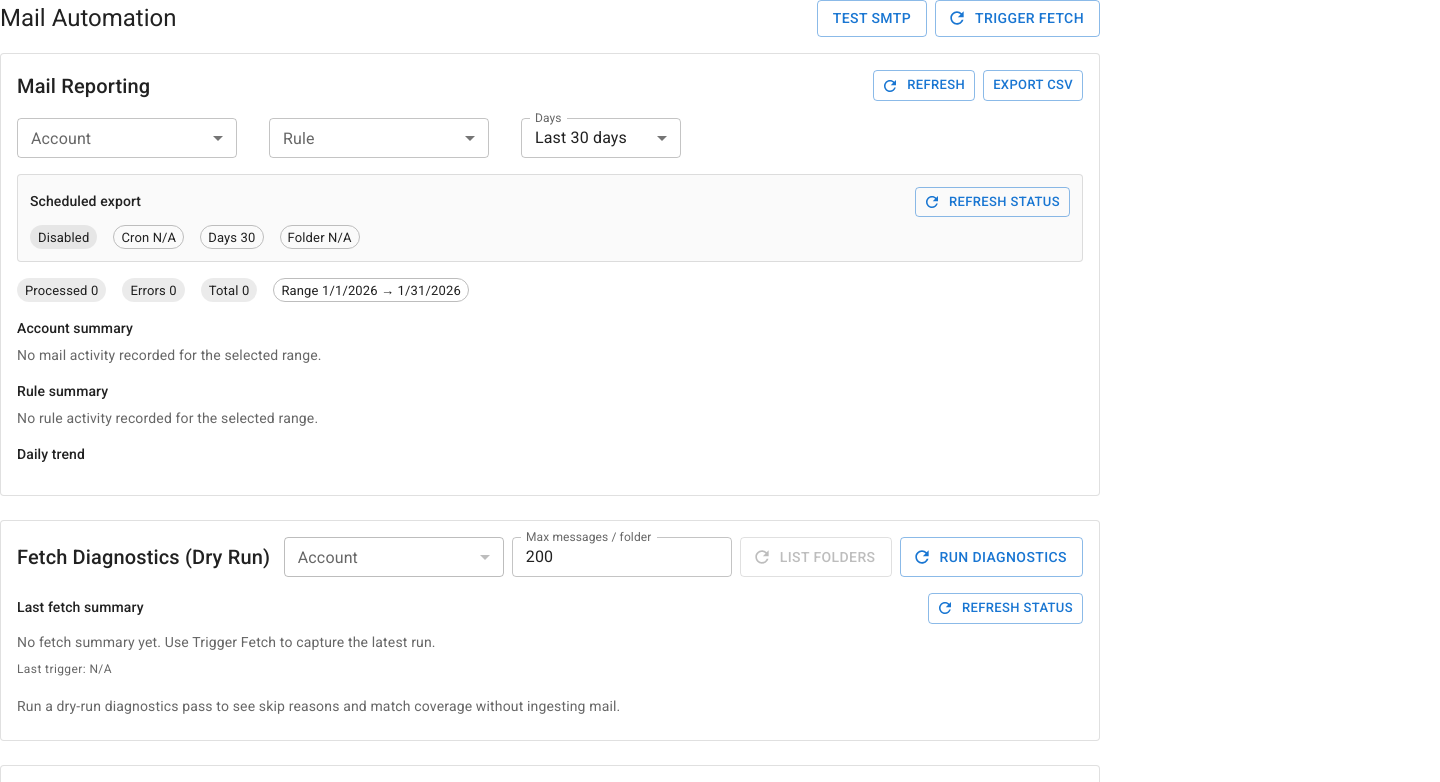
Scenario: MailAutomationPage Test SMTP dialog › renders a success Alert with smtpHost/smtpPort/fromAddress when ok=true
Click the button "Test SMTP" at (872, 18), box [817,0,927,36]
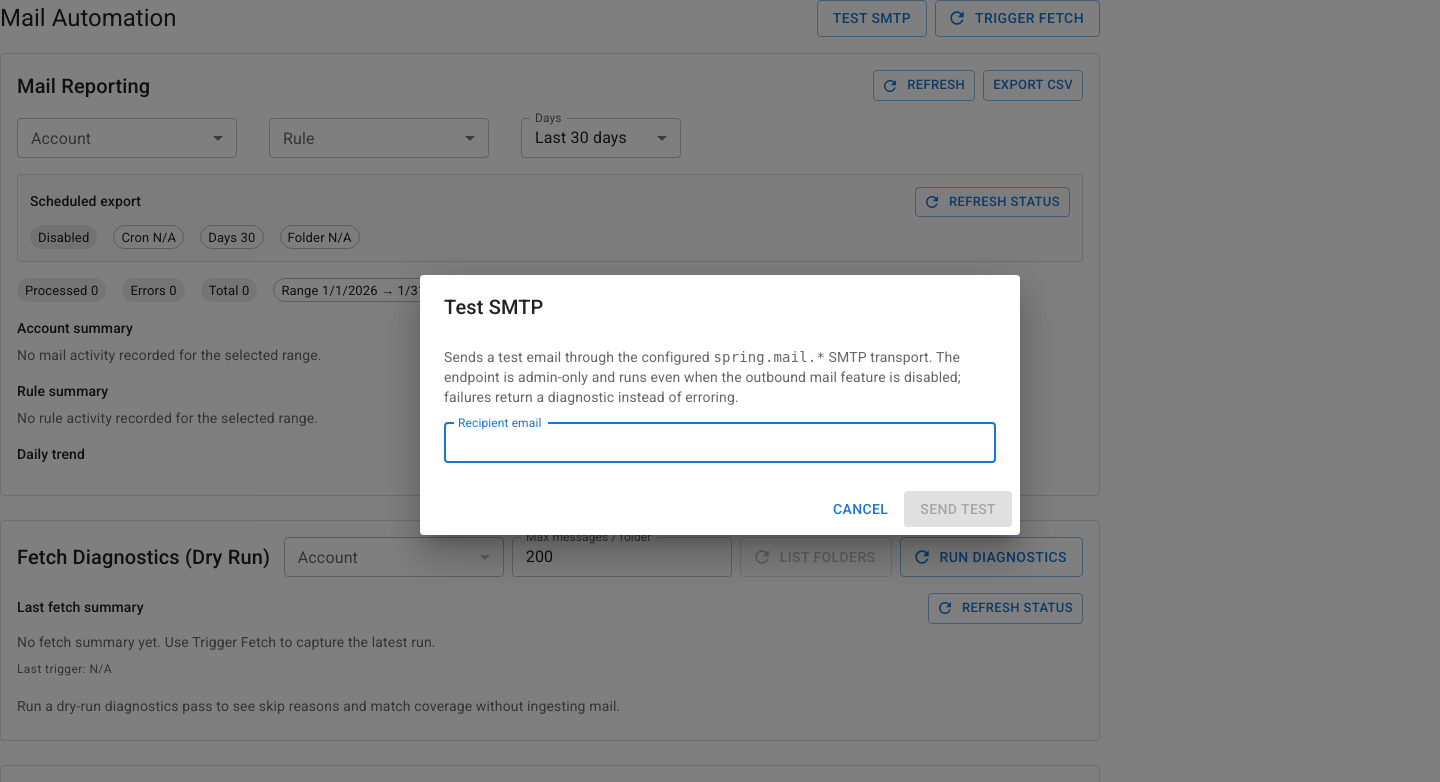
Type "ops@example.com" into the field labelled "Recipient email" at (720, 443), box [444,423,996,463]
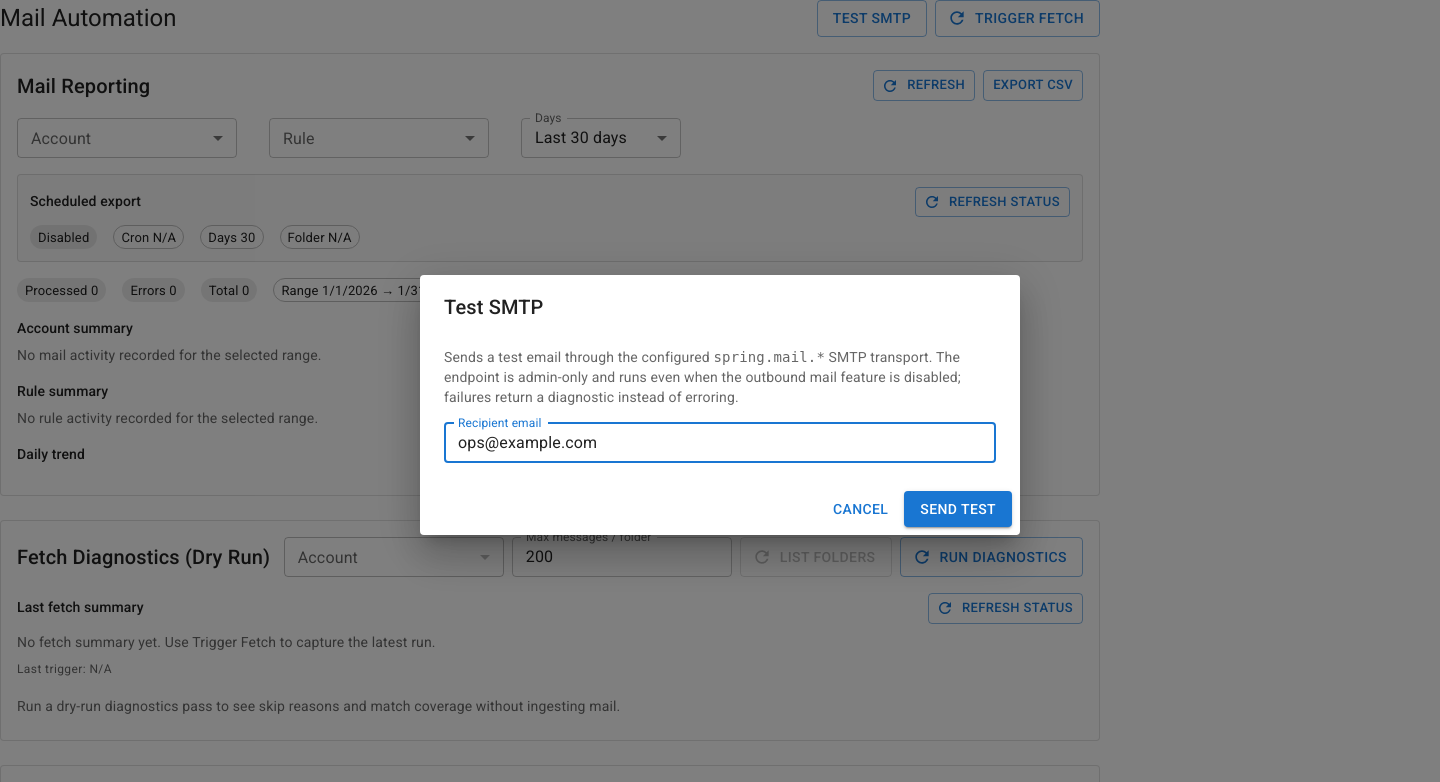
Click the button "Send test" at (958, 509), box [904,491,1012,527]
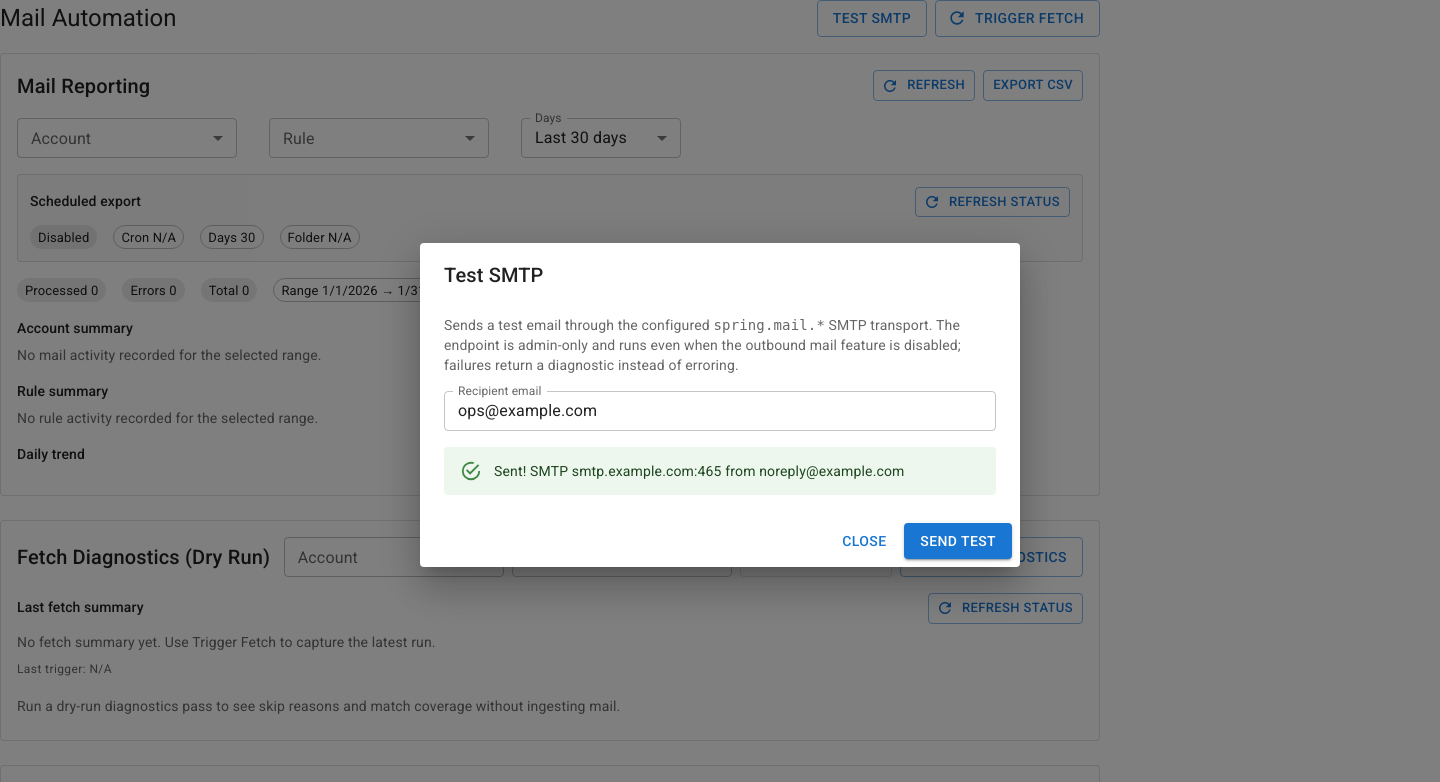
Now the message with test id "test-smtp-success" shows "Sent!", box [494,463,904,479]
Now the message with test id "test-smtp-success" shows "smtp.example.com", box [494,463,904,479]
Now the message with test id "test-smtp-success" shows "465", box [494,463,904,479]
